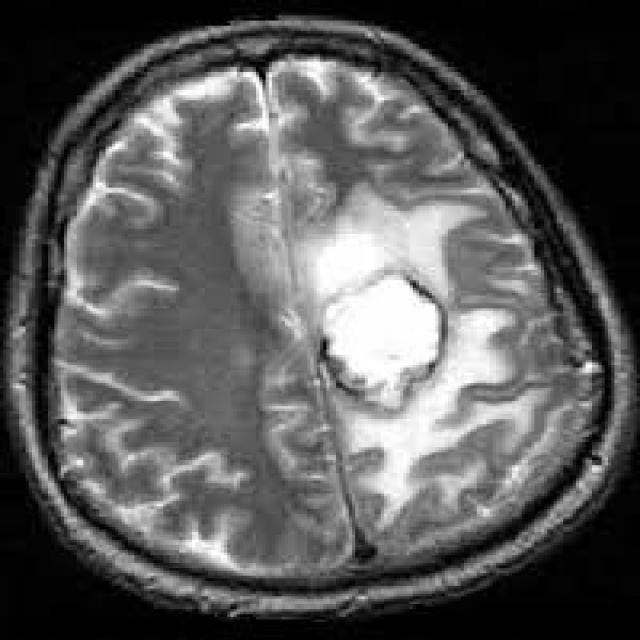tumor: (322, 278, 442, 391)
